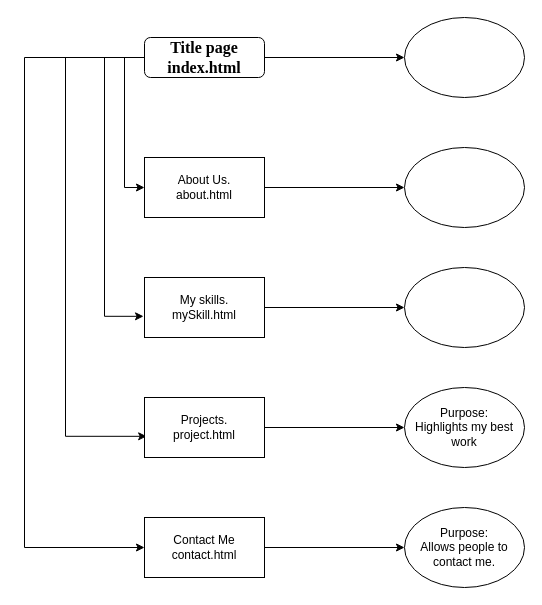
This 542x605 diagram has some shape labels left out. The shapes that lost their labels are listed below. From the top down, each one's centre as x and y in pixels, then its label:
At (x=464, y=57): "Purpose: Introduces visitors to my site".
At (x=464, y=187): "Purpose: Provide background about me".
At (x=464, y=307): "Purpose: showcases your unique skills, achievements, and personal brand".
